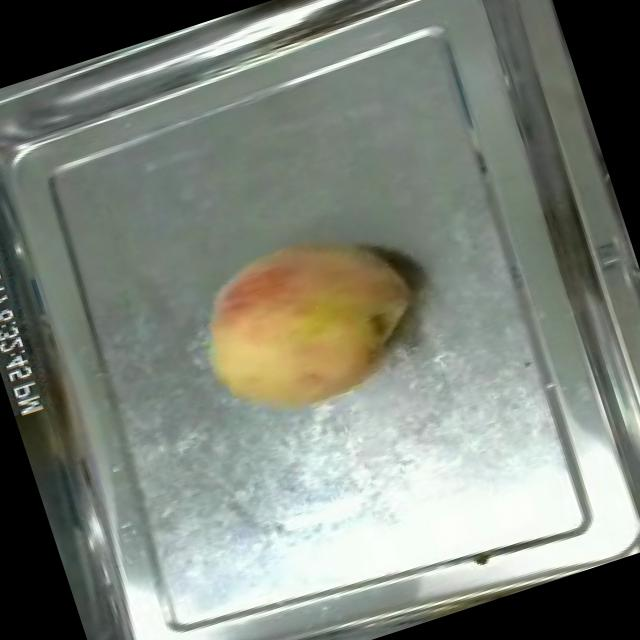Fruit: (175, 205, 445, 444)
